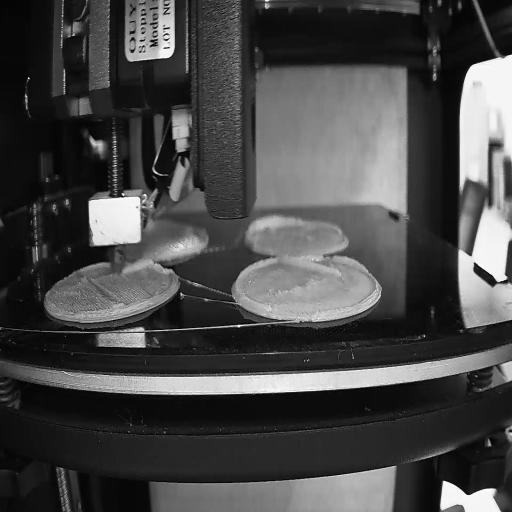over_extrusion: (246, 211, 301, 246), (234, 260, 277, 302), (282, 256, 368, 277), (126, 256, 154, 272)
